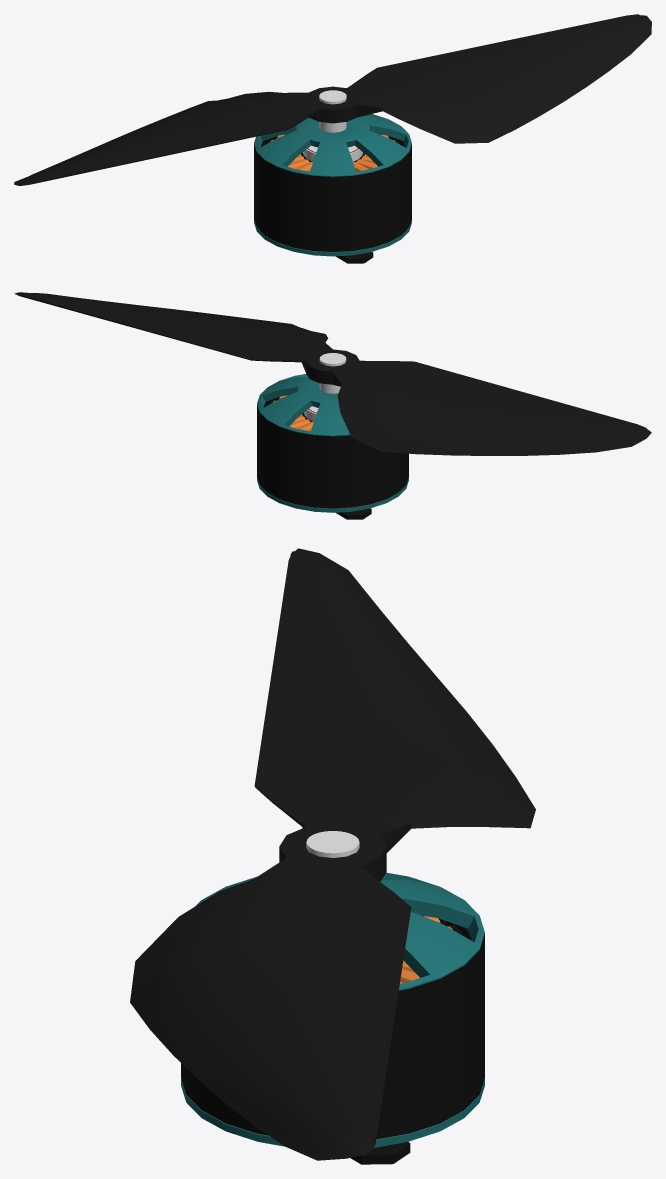
File: brushless_motor_for_a_drone_with_propellers.glb
The picture shows the model from 3 angles, top to bottom: view 1: azimuth 30°, elevation 25°; view 2: azimuth 150°, elevation 25°; view 3: azimuth 270°, elevation 25°; orthographic projection. The views are drawn at different scales.
Parts seen in each view (by area): view 1: blades, motor_rotor, motor_stator, motor_coils; view 2: blades, motor_rotor, motor_stator; view 3: blades, motor_rotor, motor_stator, motor_base_hinge.
Part boxes in pixels (left/top/right/bottom): blades: left=14, top=14, right=651, bottom=185; motor_rotor: left=254, top=90, right=411, bottom=251; motor_stator: left=254, top=134, right=411, bottom=256; motor_coils: left=271, top=134, right=394, bottom=171; blades: left=14, top=292, right=651, bottom=455; motor_rotor: left=257, top=353, right=408, bottom=508; motor_stator: left=257, top=395, right=408, bottom=512; blades: left=130, top=548, right=535, bottom=1160; motor_rotor: left=181, top=831, right=484, bottom=1139; motor_stator: left=181, top=915, right=484, bottom=1147; motor_base_hinge: left=350, top=1141, right=410, bottom=1164.
Bounding box in the file's own units: 2.27 × 0.4877 × 0.6437.
